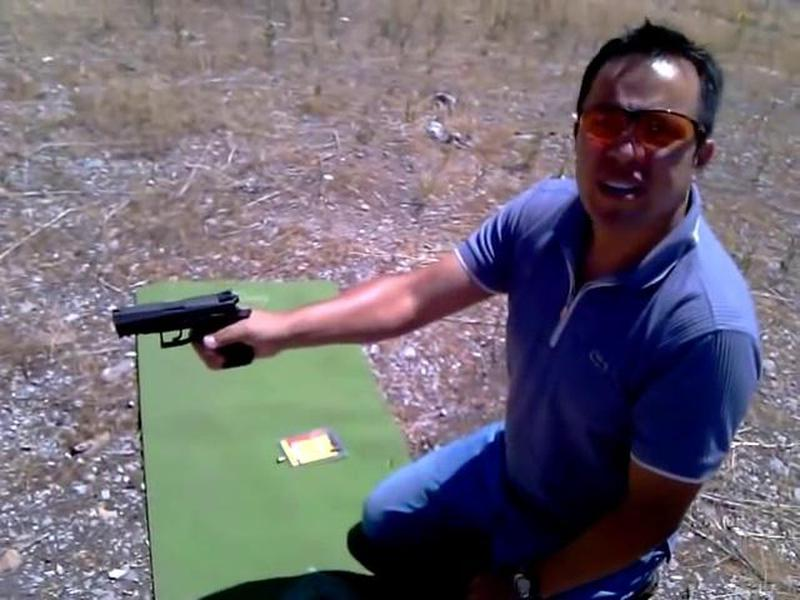Pistola: (103, 287, 261, 379)
